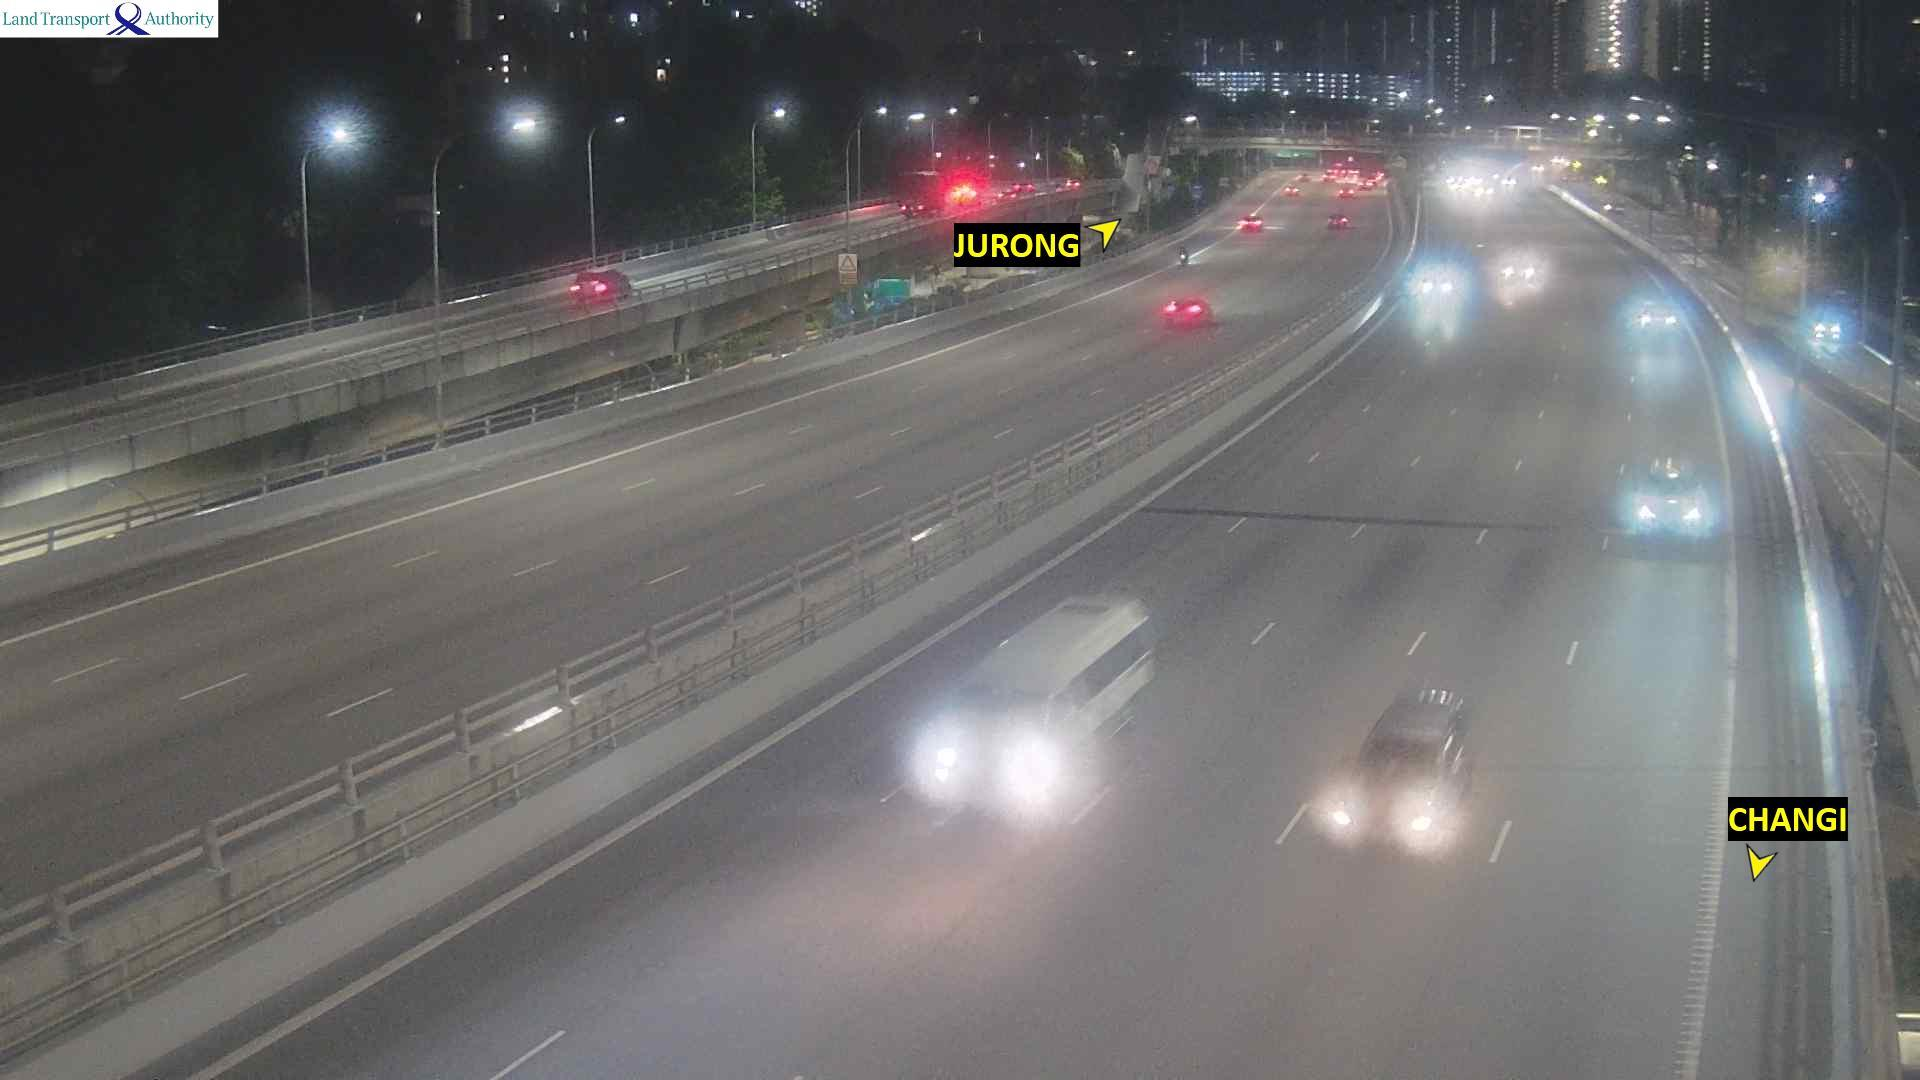cars: (905, 589, 1158, 828), (1316, 683, 1474, 855), (1611, 448, 1716, 542), (1491, 247, 1547, 307), (567, 266, 630, 306), (1408, 258, 1461, 306), (1441, 162, 1495, 198), (1629, 297, 1677, 332), (1160, 295, 1211, 328), (1807, 310, 1844, 353), (943, 173, 978, 207), (899, 198, 927, 218), (1236, 212, 1262, 231), (1054, 177, 1080, 193), (1502, 173, 1524, 190), (1327, 214, 1350, 229), (1013, 181, 1036, 196), (994, 189, 1021, 202), (1601, 200, 1623, 214), (1336, 185, 1358, 198), (1549, 153, 1567, 167), (1280, 183, 1299, 196), (1357, 179, 1375, 193), (1296, 171, 1315, 185), (1531, 162, 1547, 177), (1349, 165, 1365, 178), (1323, 173, 1337, 185), (1333, 166, 1348, 178)
motorcycle: (1172, 239, 1195, 272)
